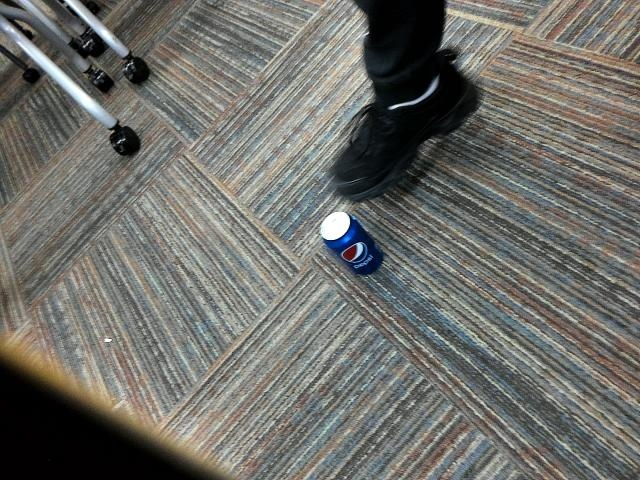can: (316, 206, 382, 281)
